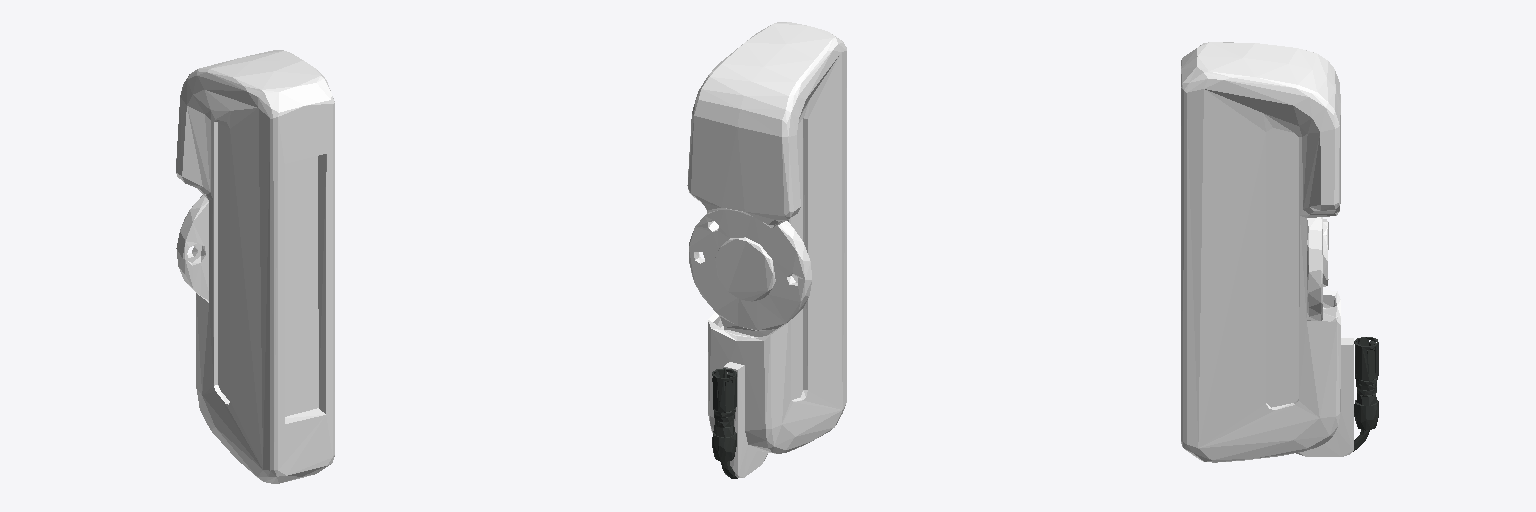
The picture shows the model from 3 angles: view 1: azimuth 30°, elevation 25°; view 2: azimuth 150°, elevation 25°; view 3: azimuth 270°, elevation 25°; orthographic projection.
Size of the model in its own units: 0.063 by 0.2043 by 0.0919.
Materials: 1 (1 with a texture image).